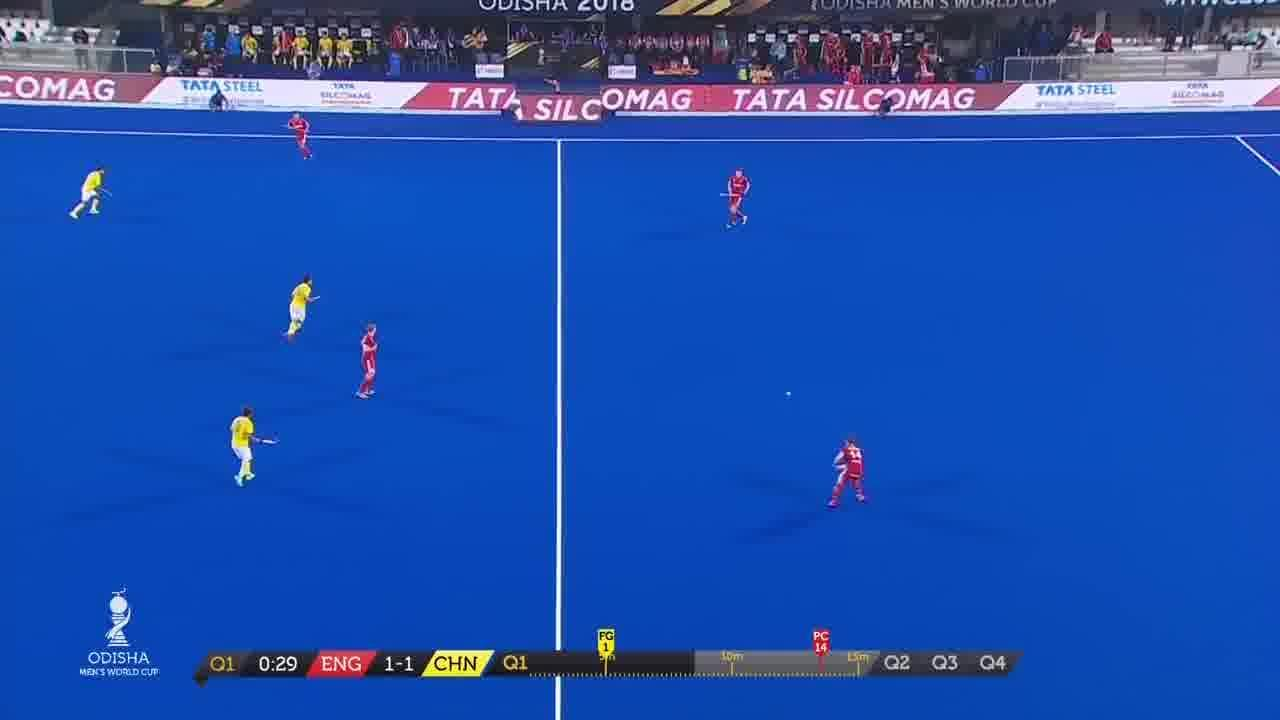ball: (784, 386, 792, 404)
